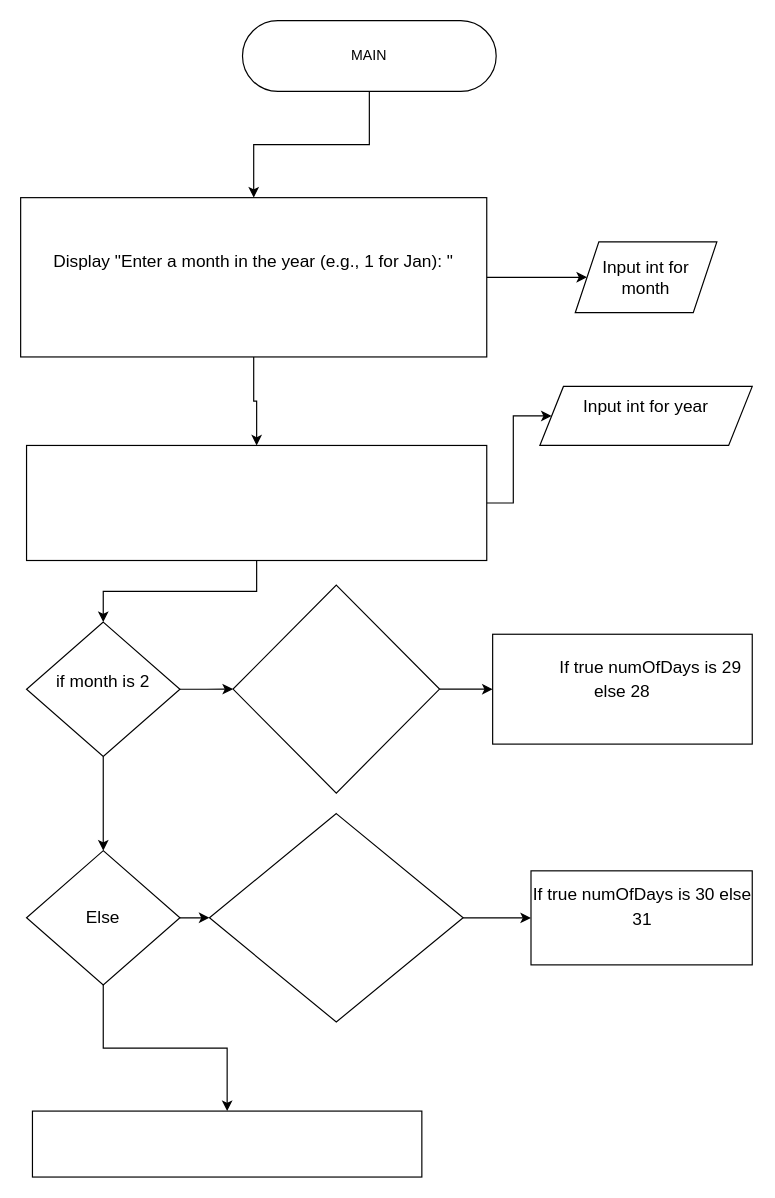
This 775x1198 diagram has some shape labels left out. Each missing label, with the box of its shape:
Display "Enter a year: ": (25, 444, 487, 560)
Display “Month year has numOfDays”: (31, 1110, 422, 1177)
Evaluate (year % 4 == 0 && year % 100 != 0) || year % 400 == 0: (232, 584, 440, 793)
Evaluate month % 2 == 0: (208, 812, 463, 1022)
